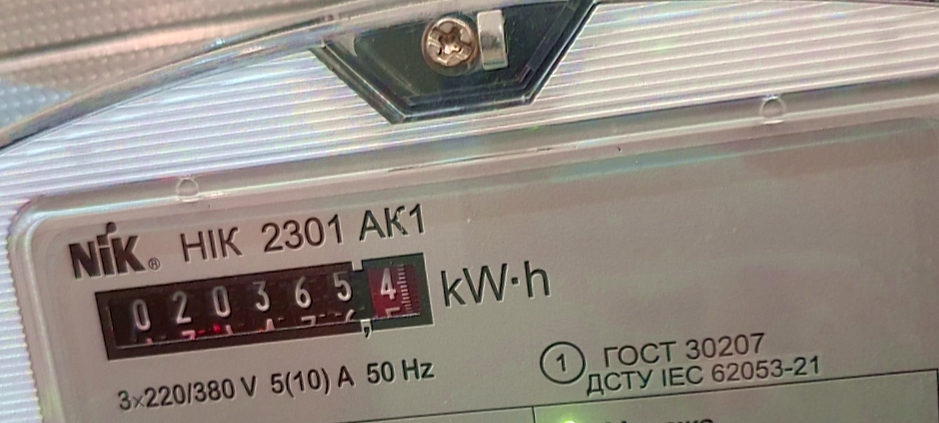0: (209, 284, 231, 321), (128, 298, 151, 333)
2: (167, 290, 192, 327)
3: (249, 278, 270, 314)
4: (375, 266, 396, 302)
5: (330, 270, 352, 304)
6: (289, 275, 311, 311)
screen: (75, 242, 451, 372)
